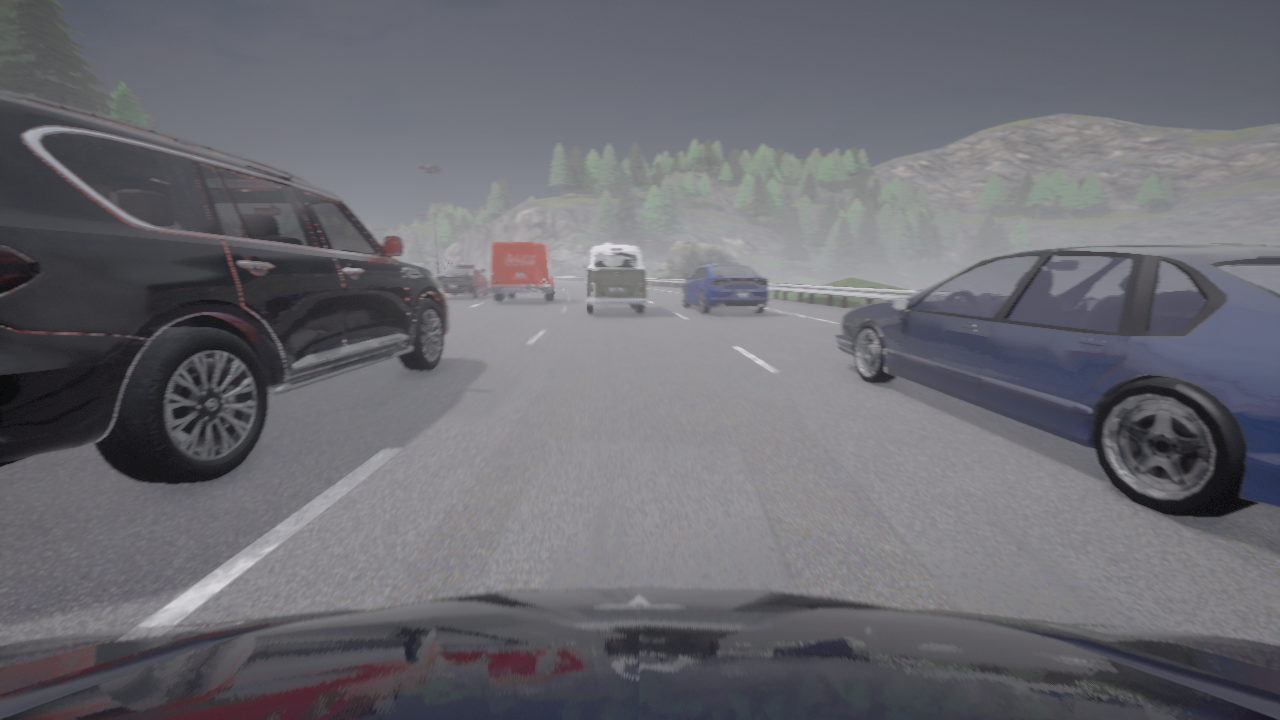cyclist: (0, 588, 1279, 719), (834, 244, 1279, 517), (582, 244, 646, 314), (683, 263, 768, 313), (490, 242, 556, 301), (436, 265, 488, 298)
